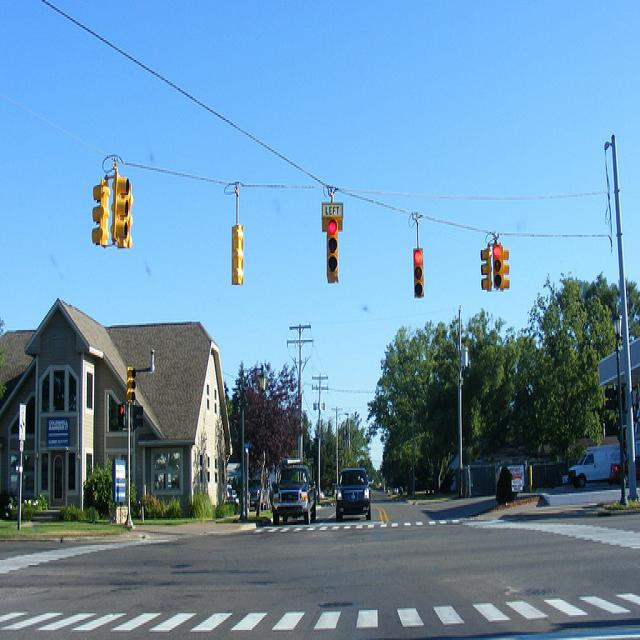Vehicle: (273, 459, 319, 525), (568, 444, 621, 489), (336, 468, 372, 521), (607, 456, 640, 485), (249, 476, 261, 504)
